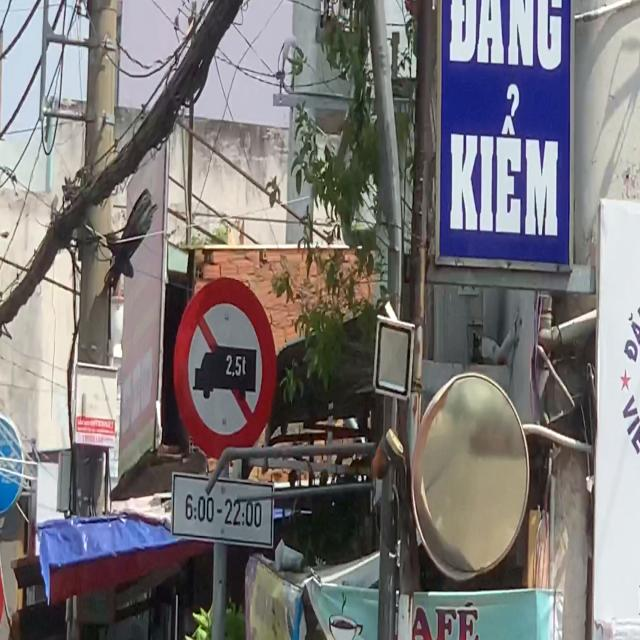Cam con lai: (174, 275, 276, 461)
